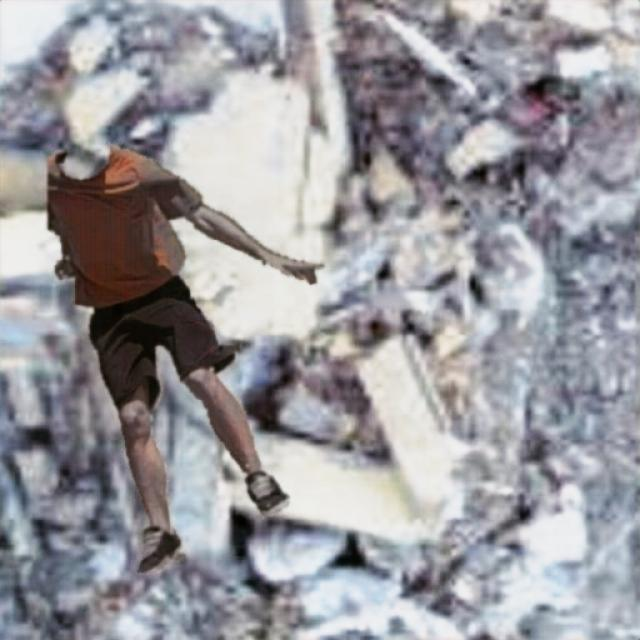Person in Rubble: (48, 143, 322, 572)
